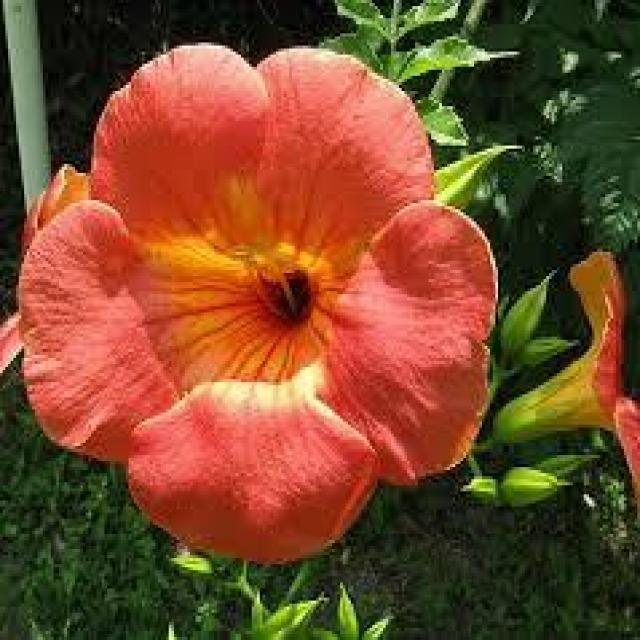organic waste: (24, 43, 506, 567)
